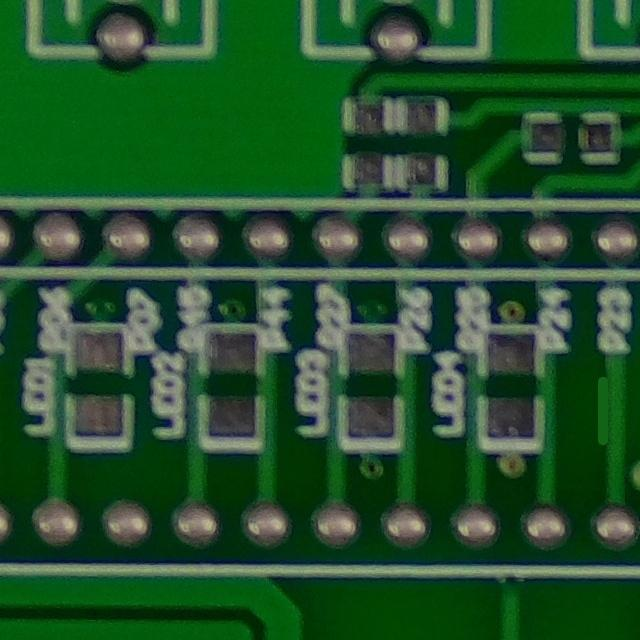spur: (583, 366, 640, 447)
